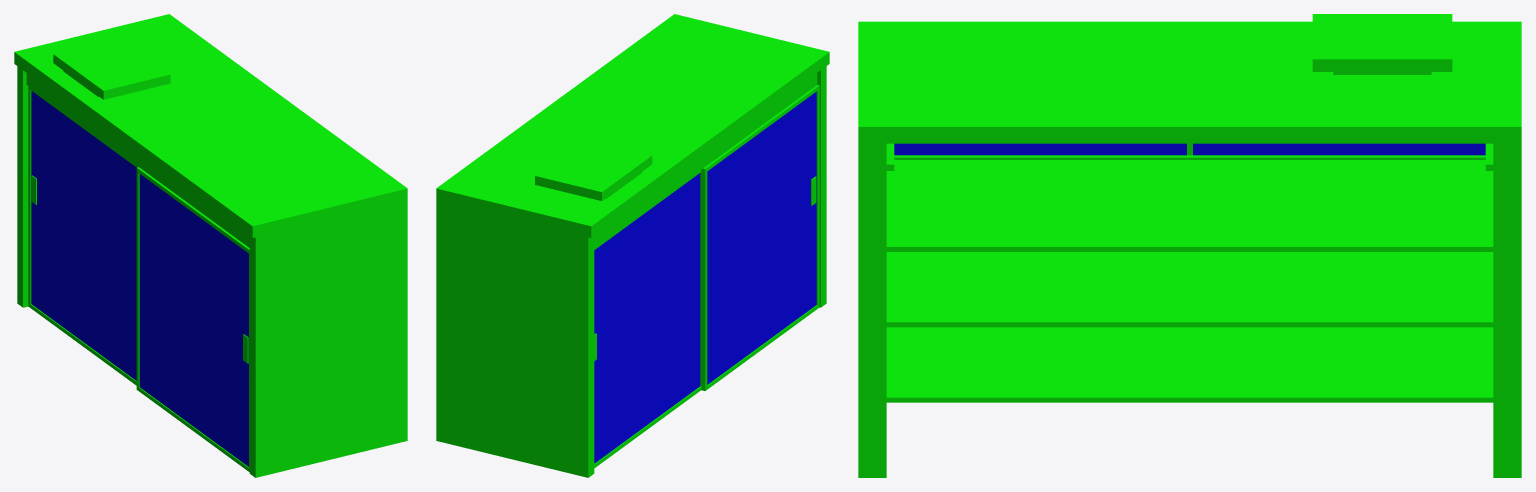
Rendered from SM_KitchenFurniture_GlassDisplay.FBX.
3 views of the same model, side by side, from view 1: azimuth 30°, elevation 25°; view 2: azimuth 150°, elevation 25°; view 3: azimuth 270°, elevation 25° (orthographic). The views are drawn at different scales.
Visible parts, largest first — view 1: Box001; view 2: Box001; view 3: Box001.
Part boxes in pixels (box(x1,y1,x2,y2)): Box001: box(14, 14, 407, 477); Box001: box(436, 14, 829, 477); Box001: box(858, 14, 1521, 477).
Size of the model in its own units: 75.18 by 123 by 200.
